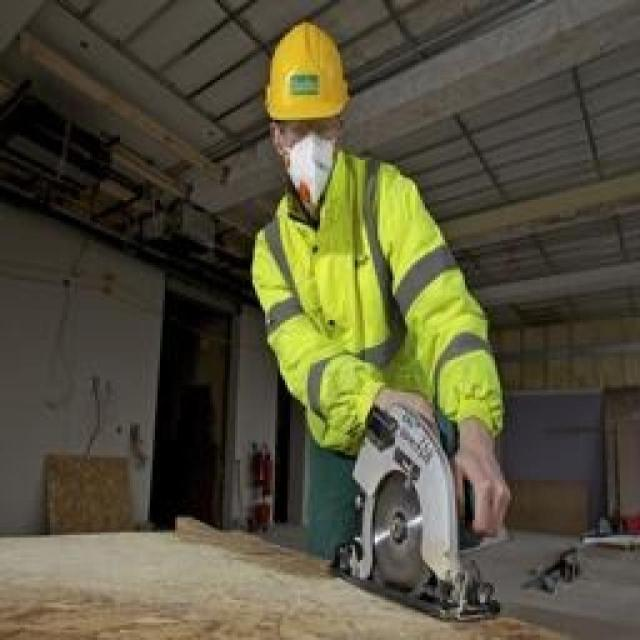Helmet: (228, 157, 504, 446), (223, 0, 375, 145)
